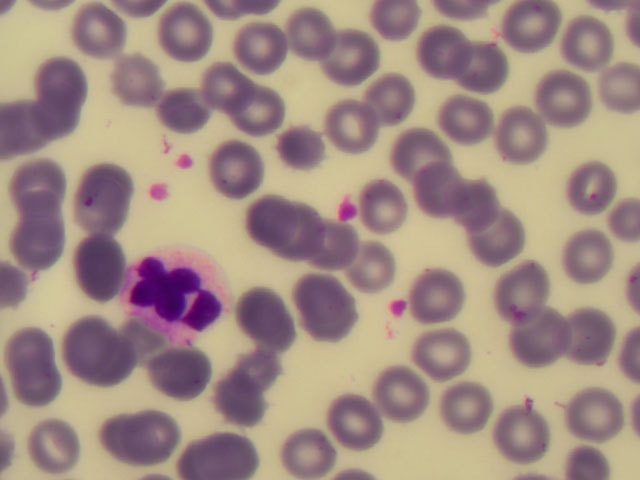Platelets: (143, 177, 181, 209), (331, 190, 358, 219), (176, 152, 199, 175), (389, 296, 410, 320)
RBC: (35, 51, 95, 120), (69, 163, 129, 231), (5, 147, 65, 215), (6, 191, 66, 259), (70, 239, 130, 307), (66, 321, 126, 389), (3, 322, 63, 390), (26, 412, 86, 480), (108, 401, 168, 469), (148, 343, 208, 411), (209, 364, 269, 432), (234, 339, 294, 407), (236, 268, 296, 336), (301, 275, 361, 343), (308, 210, 368, 278), (261, 185, 321, 253), (209, 134, 269, 202), (233, 89, 293, 157), (197, 49, 257, 117), (154, 72, 214, 140), (108, 38, 168, 106), (165, 3, 225, 71), (232, 15, 292, 83), (277, 5, 337, 73), (328, 28, 388, 96), (361, 63, 421, 131), (330, 97, 390, 165), (276, 114, 336, 182), (384, 119, 444, 187), (412, 149, 472, 217), (362, 176, 422, 244), (448, 171, 508, 239), (469, 202, 529, 270), (414, 265, 474, 333), (418, 328, 478, 396), (352, 235, 412, 303), (359, 356, 419, 424), (330, 389, 390, 457), (277, 412, 337, 480), (493, 402, 553, 470), (435, 375, 495, 443), (506, 308, 566, 376), (493, 255, 553, 323), (561, 226, 621, 294), (566, 153, 626, 221), (489, 105, 549, 173), (432, 88, 492, 156), (453, 41, 513, 109), (405, 21, 465, 89), (559, 14, 619, 82), (501, 3, 561, 71), (536, 63, 596, 131), (189, 412, 249, 480), (564, 377, 624, 445), (561, 298, 621, 366), (68, 1, 128, 68)
WBC: (126, 249, 230, 342)
